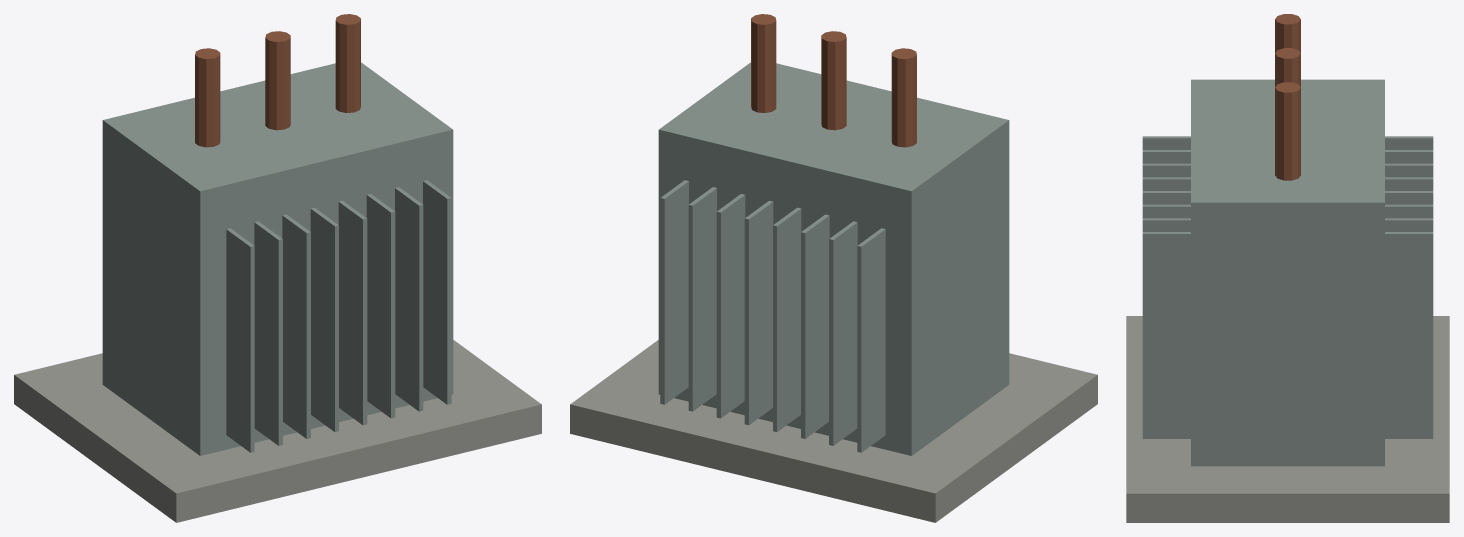
Rendered from transformer.glb.
The picture shows the model from 3 angles, left to right: view 1: azimuth 30°, elevation 25°; view 2: azimuth 150°, elevation 25°; view 3: azimuth 270°, elevation 25°; orthographic projection.
Parts seen in each view (by area): view 1: transformer; view 2: transformer; view 3: transformer.
Boxes of the visible parts, x1,y1,x2,y2 form: transformer: (14,14,541,522); transformer: (570,14,1097,522); transformer: (1126,14,1449,522).
Size of the model in its own units: 2.6 by 2.6 by 2.
